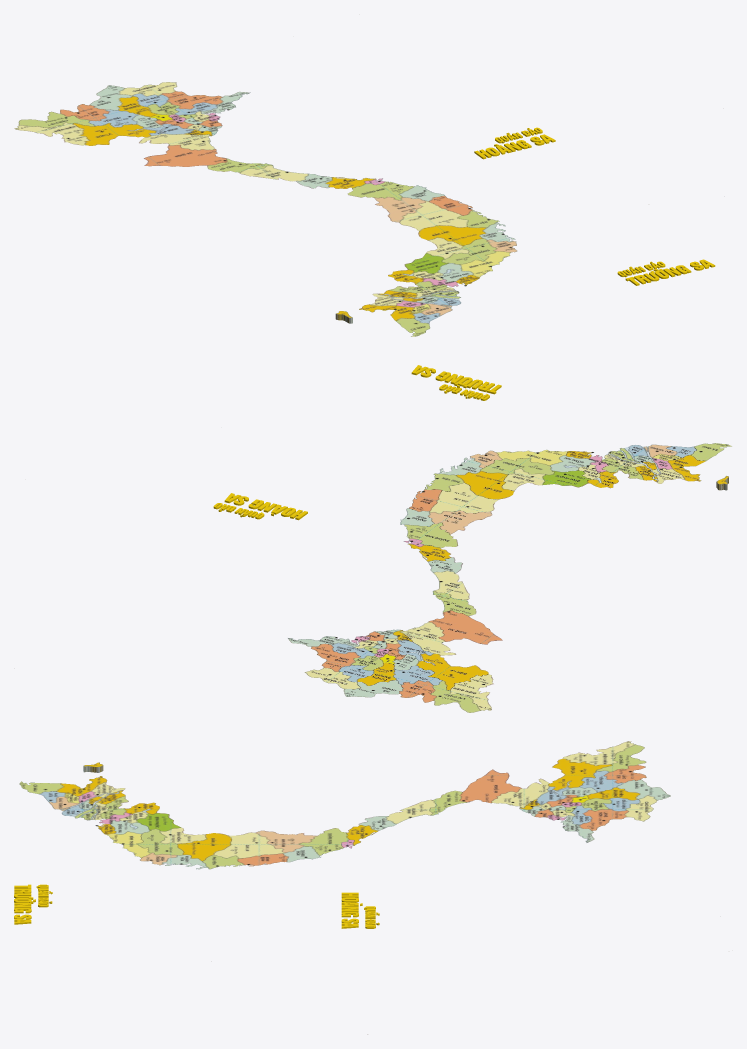
The model's file is Vietnam_Map.glb.
The picture shows the model from 3 angles, top to bottom: view 1: azimuth 30°, elevation 25°; view 2: azimuth 150°, elevation 25°; view 3: azimuth 270°, elevation 25°; orthographic projection. The views are drawn at different scales.
Parts seen in each view (by area): view 1: VN_map, G-__555564.001, G-__555591; view 2: VN_map, G-__555564.001, G-__555591; view 3: VN_map, G-__555564.001, G-__555591.
Part boxes in pixels (x1=…): VN_map: x1=14, y1=82, x2=517, y2=336; G-__555564.001: x1=617, y1=259, x2=715, y2=285; G-__555591: x1=474, y1=127, x2=555, y2=159; VN_map: x1=288, y1=443, x2=731, y2=712; G-__555564.001: x1=411, y1=365, x2=501, y2=400; G-__555591: x1=213, y1=493, x2=307, y2=520; VN_map: x1=19, y1=741, x2=670, y2=1034; G-__555564.001: x1=14, y1=884, x2=52, y2=924; G-__555591: x1=341, y1=892, x2=379, y2=928.
Bounding box in the file's own units: 13.25 × 0.5128 × 14.73.
3 materials, 1 textured.
